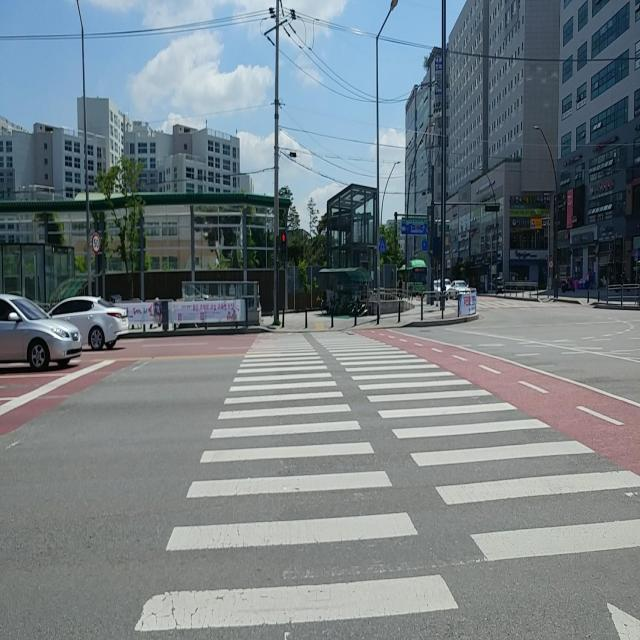빨간불: (279, 230, 288, 260)
횡단보도: (132, 326, 638, 639)
